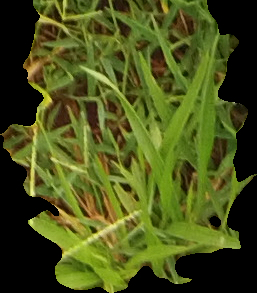grass: (1, 1, 255, 292)
